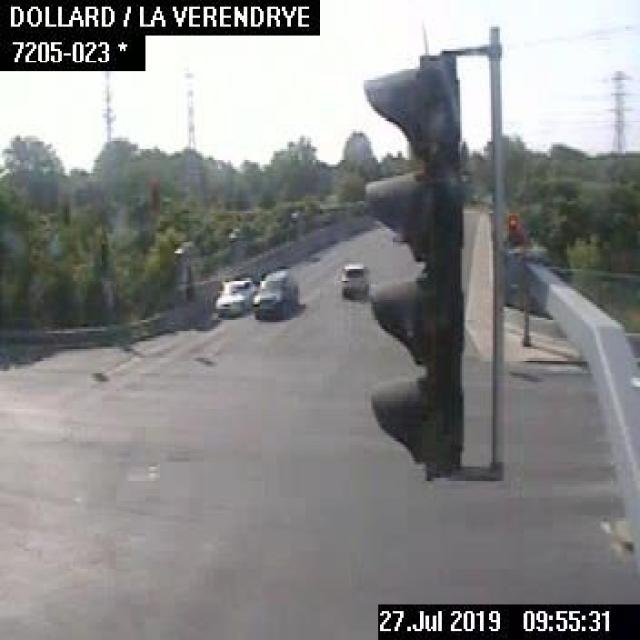vehicle: (250, 264, 298, 322), (215, 275, 254, 318), (338, 260, 369, 300)
